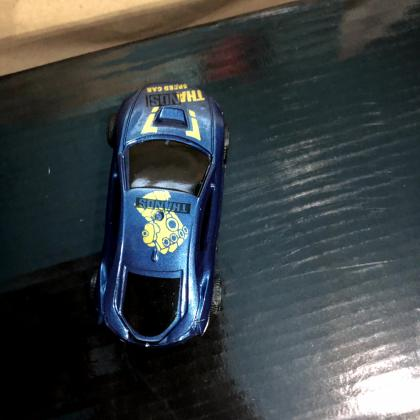Car: (93, 84, 227, 351)
